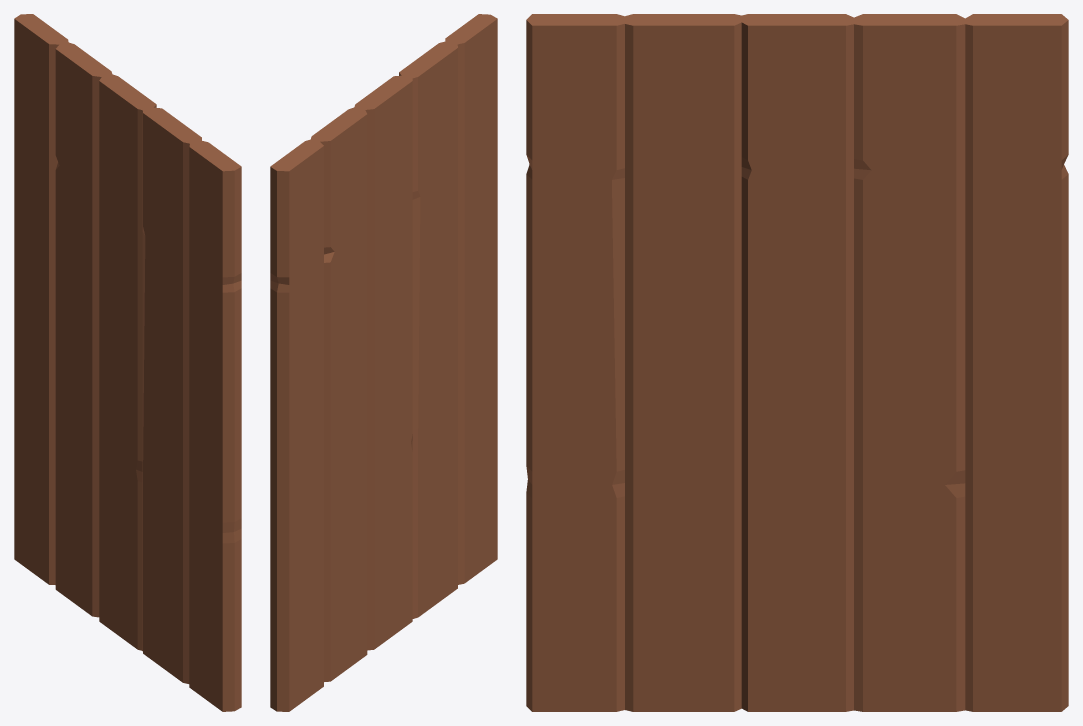
File: Wood_Wall.fbx
3 views of the same model, side by side, from view 1: azimuth 30°, elevation 25°; view 2: azimuth 150°, elevation 25°; view 3: azimuth 270°, elevation 25° (orthographic). The views are drawn at different scales.
Visible parts, largest first — view 1: WoodWall.001; view 2: WoodWall.001; view 3: WoodWall.001.
Boxes of the visible parts, box(x1,y1,x2,y2) form: WoodWall.001: box(14, 14, 241, 711); WoodWall.001: box(270, 14, 497, 711); WoodWall.001: box(526, 14, 1068, 711).
Bounding box in the file's own units: 0.5472 × 14.85 × 10.63.
